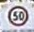limite 50: (7, 5, 29, 25)
